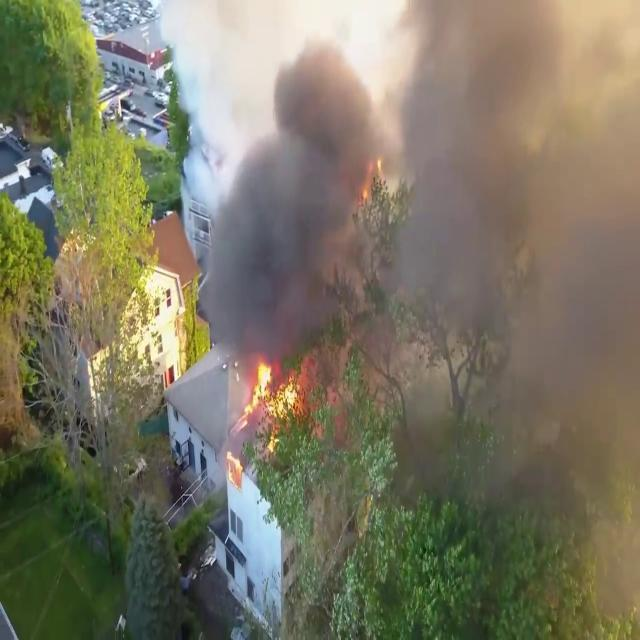Fire: (240, 350, 306, 432)
Smoke: (192, 0, 639, 429)
